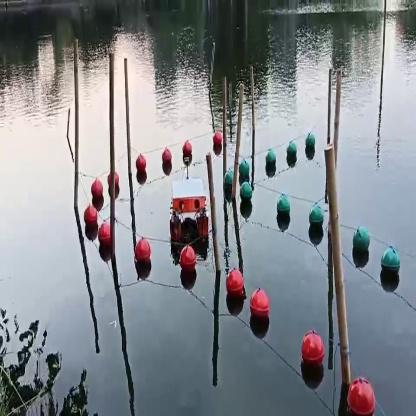green_buoy: (350, 222, 369, 268), (310, 203, 325, 243), (275, 189, 288, 232), (384, 239, 395, 280), (240, 182, 254, 212), (286, 135, 296, 165), (306, 130, 315, 160), (264, 147, 272, 179), (226, 166, 233, 200), (239, 156, 248, 178)
red_buoy: (346, 375, 377, 415), (246, 282, 274, 326), (223, 262, 244, 308), (302, 332, 322, 371), (134, 234, 149, 270), (81, 206, 98, 233), (181, 246, 196, 273), (209, 129, 224, 154), (92, 180, 104, 205), (181, 140, 194, 163), (100, 221, 110, 249), (134, 154, 146, 174), (162, 148, 170, 172)
